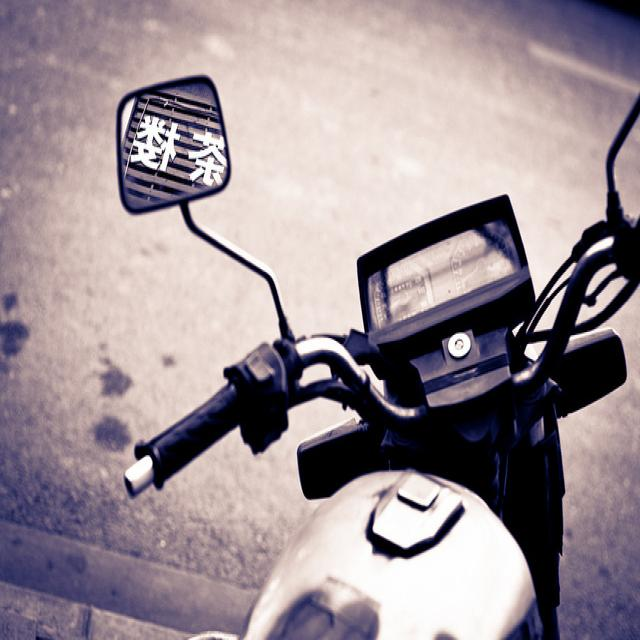motor: (119, 76, 640, 629)
